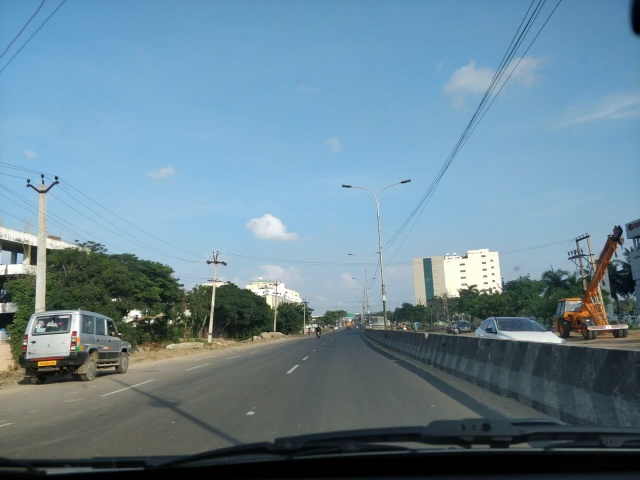car: (22, 306, 130, 385), (477, 319, 566, 357), (445, 318, 475, 338)
motorbike: (311, 325, 327, 344), (397, 319, 412, 335)
